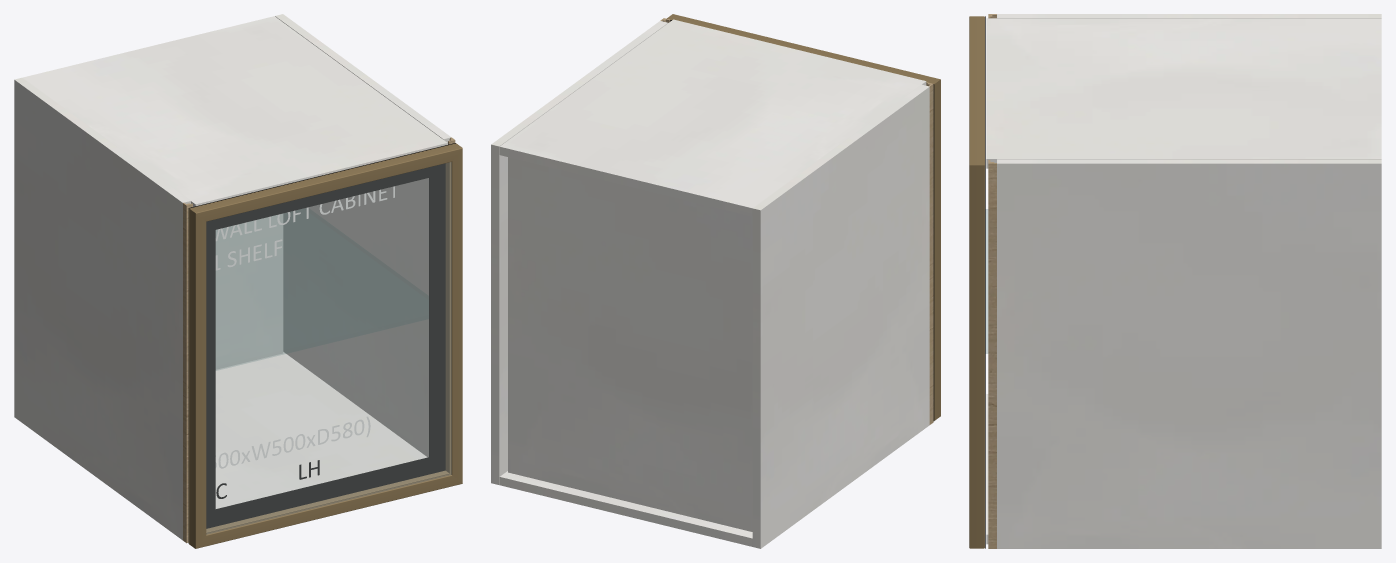
File: LOF-SH-NHX-ST-1SX-LHS-XXX-500-600-560-15.glb
3 renders of one model, left to right at view 1: azimuth 30°, elevation 25°; view 2: azimuth 150°, elevation 25°; view 3: azimuth 270°, elevation 25°, orthographic. The views are drawn at different scales.
Visible parts, largest first — view 1: Object_node_4, TP_node_0, TP, TP_node_1, Neon 22 Profile ALU PROF NEON 20 L21XH22.5MM 3MTR S2/405 SEC (×4), TP_node, Object_node_6, TP_node_2, Object_node_8, 2D text_node_1, 2D text_node_0; view 2: TP_node_2, TP_node_0, TP, TP_node_1, Neon 22 Profile ALU PROF NEON 20 L21XH22.5MM 3MTR S2/405 SEC (×2), TP_node, Object_node_8, Object_node_6; view 3: TP_node_1, TP, Neon 22 Profile ALU PROF NEON 20 L21XH22.5MM 3MTR S2/405 SEC (×2), Object_node_14, TP_node_0, Object_node_6.
Boxes of the visible parts, x1,y1,x2,y2 form: Object_node_4: (206,162,451,534); TP_node_0: (14,77,190,540); TP: (23,16,447,206); TP_node_1: (275,14,450,457); Neon 22 Profile ALU PROF NEON 20 L21XH22.5MM 3MTR S2/405 SEC (×4): (189,143,462,548); TP_node: (215,352,427,508); Object_node_6: (188,143,455,543); TP_node_2: (215,213,283,369); Object_node_8: (183,202,192,543); 2D text_node_1: (215,186,394,270); 2D text_node_0: (215,416,370,468); TP_node_2: (508,157,752,531); TP_node_0: (752,84,929,548); TP: (499,19,926,216); TP_node_1: (491,21,667,484); Neon 22 Profile ALU PROF NEON 20 L21XH22.5MM 3MTR S2/405 SEC (×2): (667,14,940,420); TP_node: (499,471,752,546); Object_node_8: (926,82,933,424); Object_node_6: (670,20,934,420); TP_node_1: (997,159,1381,548); TP: (986,18,1381,168); Neon 22 Profile ALU PROF NEON 20 L21XH22.5MM 3MTR S2/405 SEC (×2): (969,16,984,548); Object_node_14: (988,160,996,548); TP_node_0: (997,14,1381,18); Object_node_6: (985,16,985,548).
Size of what is drawn, in the model's own units: 0.5 by 0.6 by 0.582.
8 materials, 2 textured.
